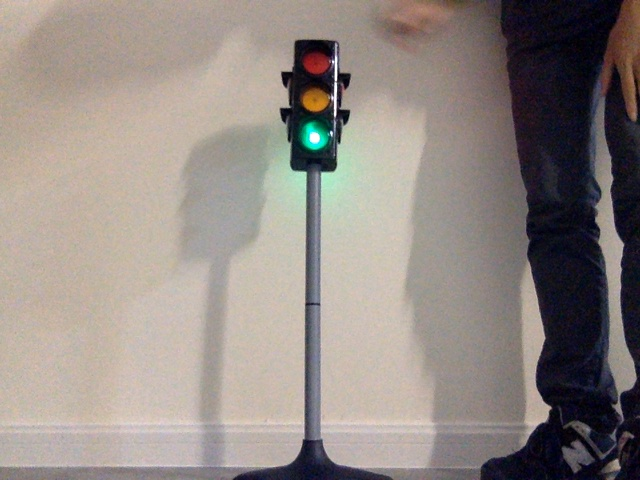green: (295, 44, 331, 154)
